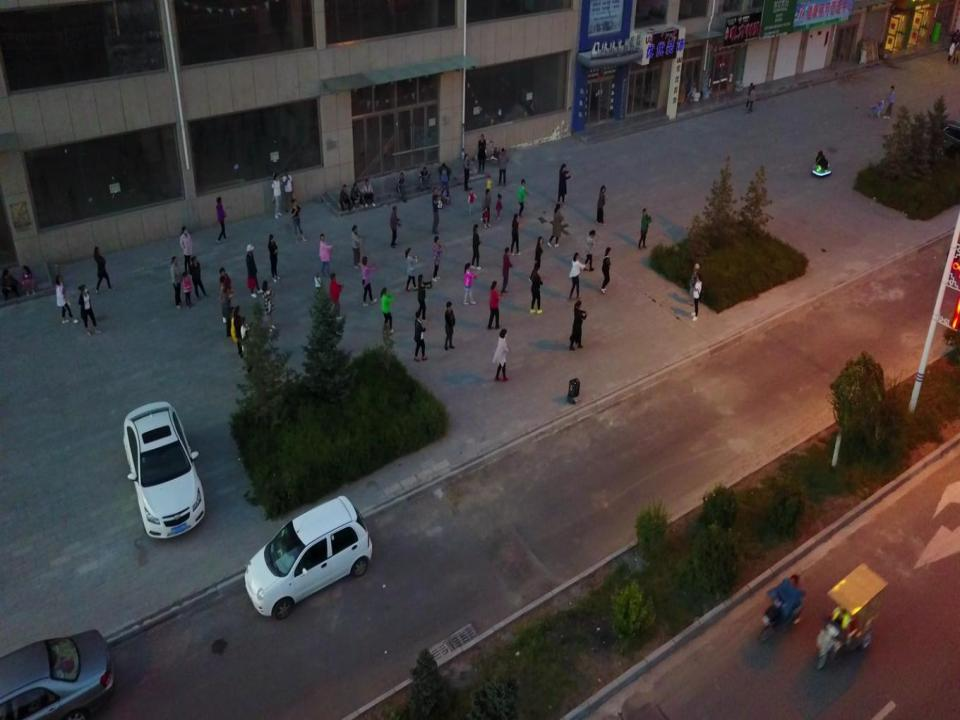car: (240, 493, 374, 621), (122, 403, 208, 543), (0, 628, 115, 720)
